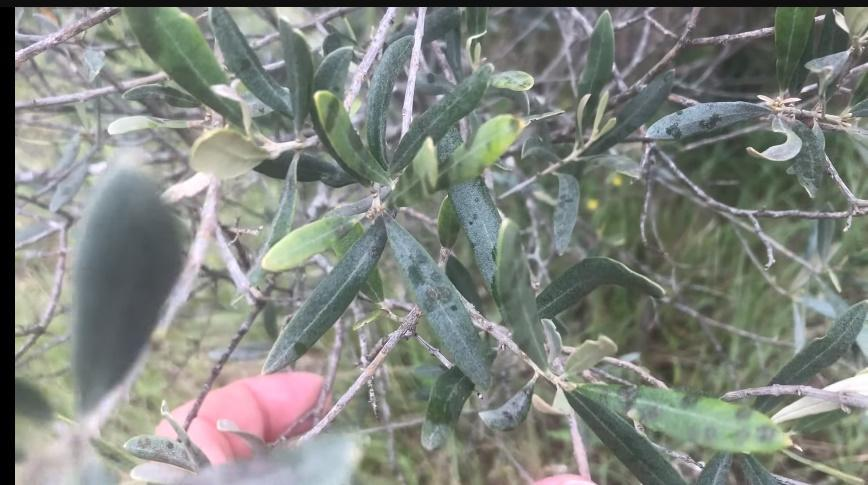OlivePeacockSpot: (382, 216, 493, 390), (562, 379, 786, 451), (316, 90, 392, 186), (441, 115, 526, 191), (646, 102, 770, 140), (390, 142, 438, 211), (548, 170, 584, 258), (482, 382, 536, 434), (122, 433, 194, 472)
